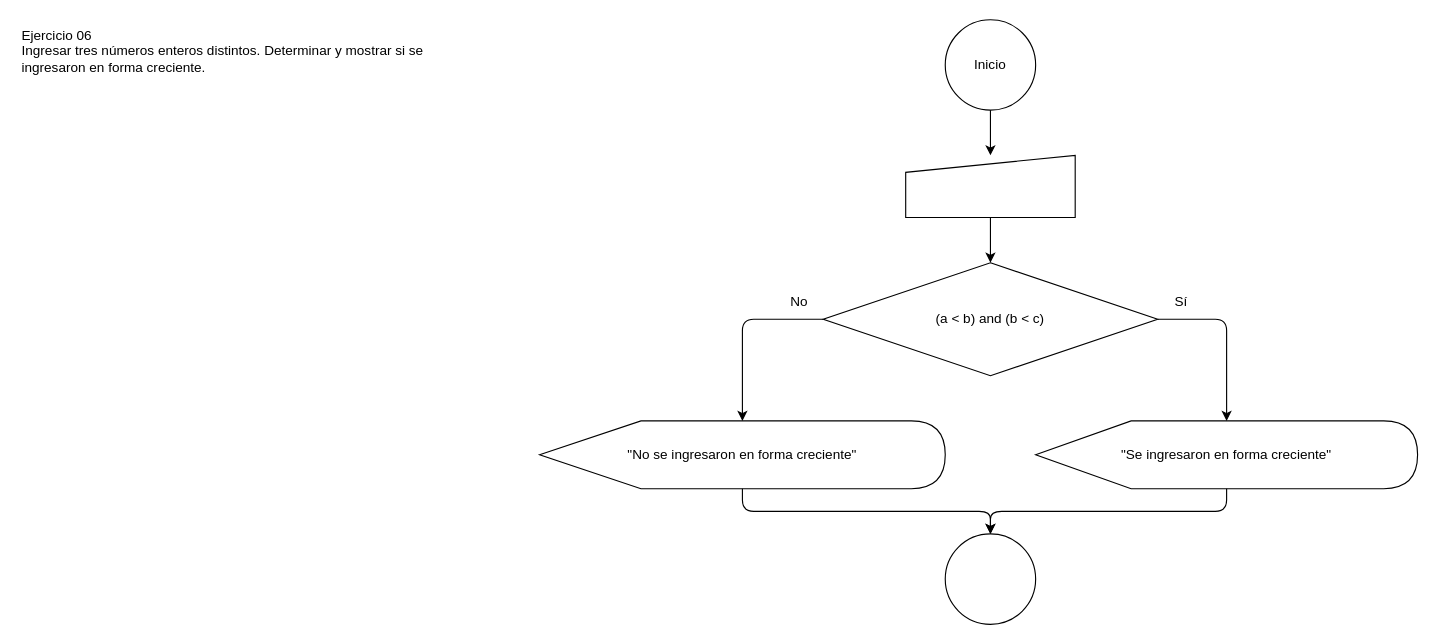
Image size: 1437x644. Some labels were removed from this diagram. The box of each missing label's shape, as (x1, y1, x2, y2) in pixels:
a,b,c: (905, 154, 1075, 218)
Fin: (944, 533, 1036, 624)
